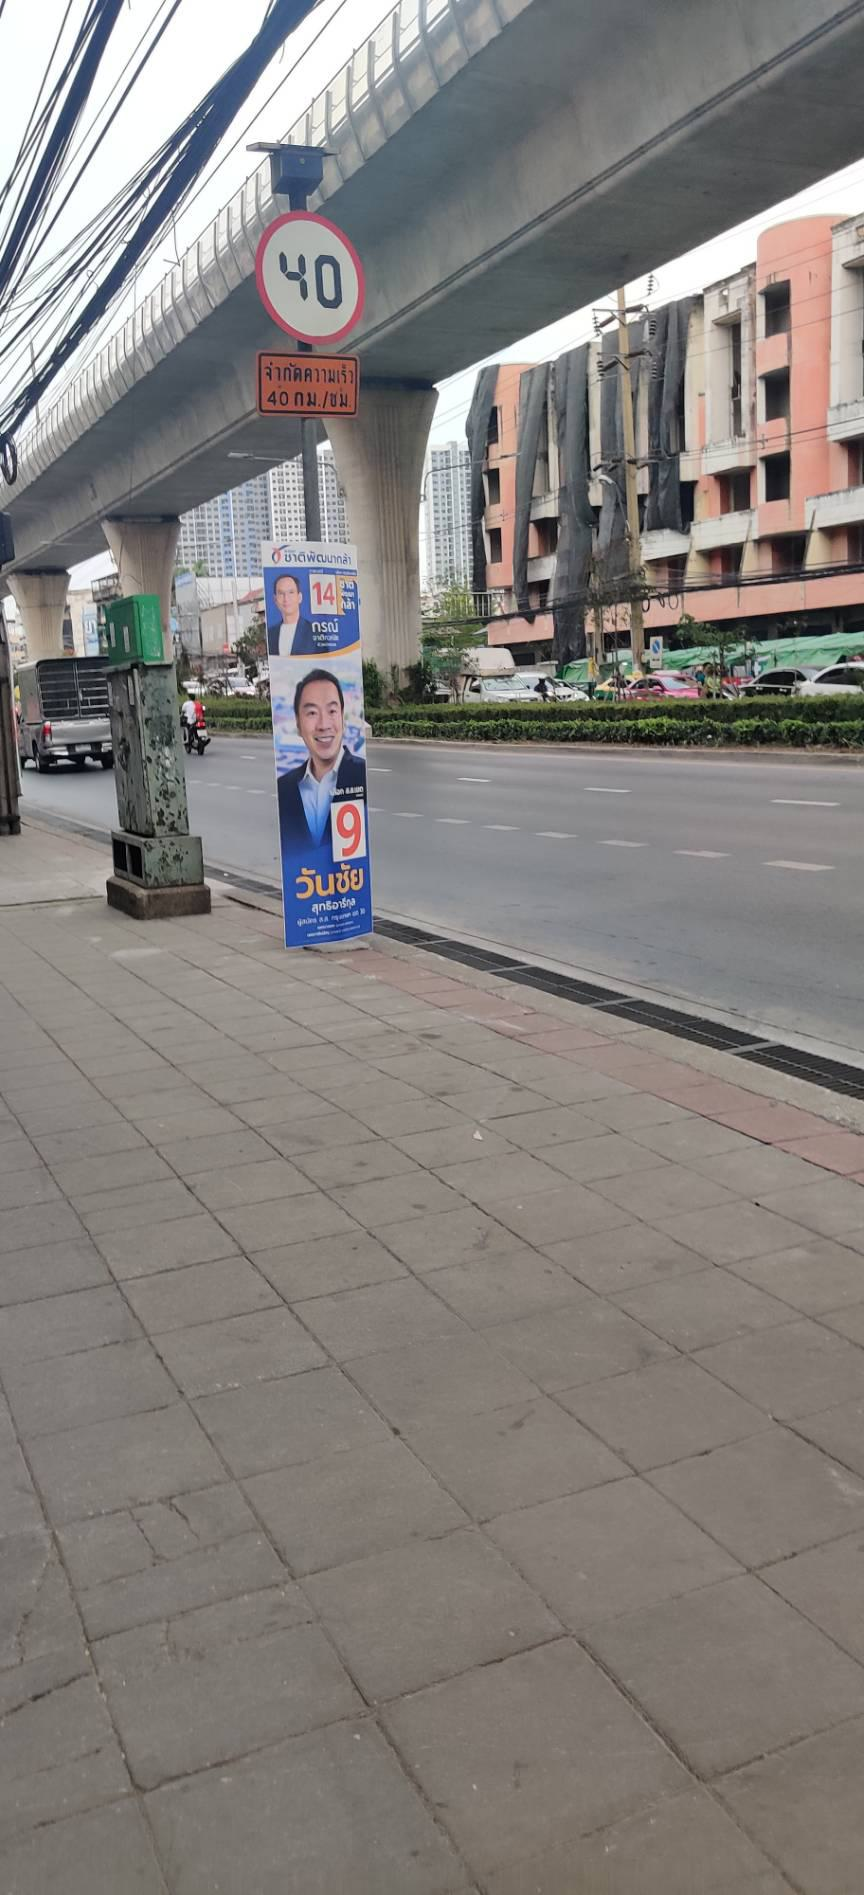Banner: (263, 547, 414, 957)
